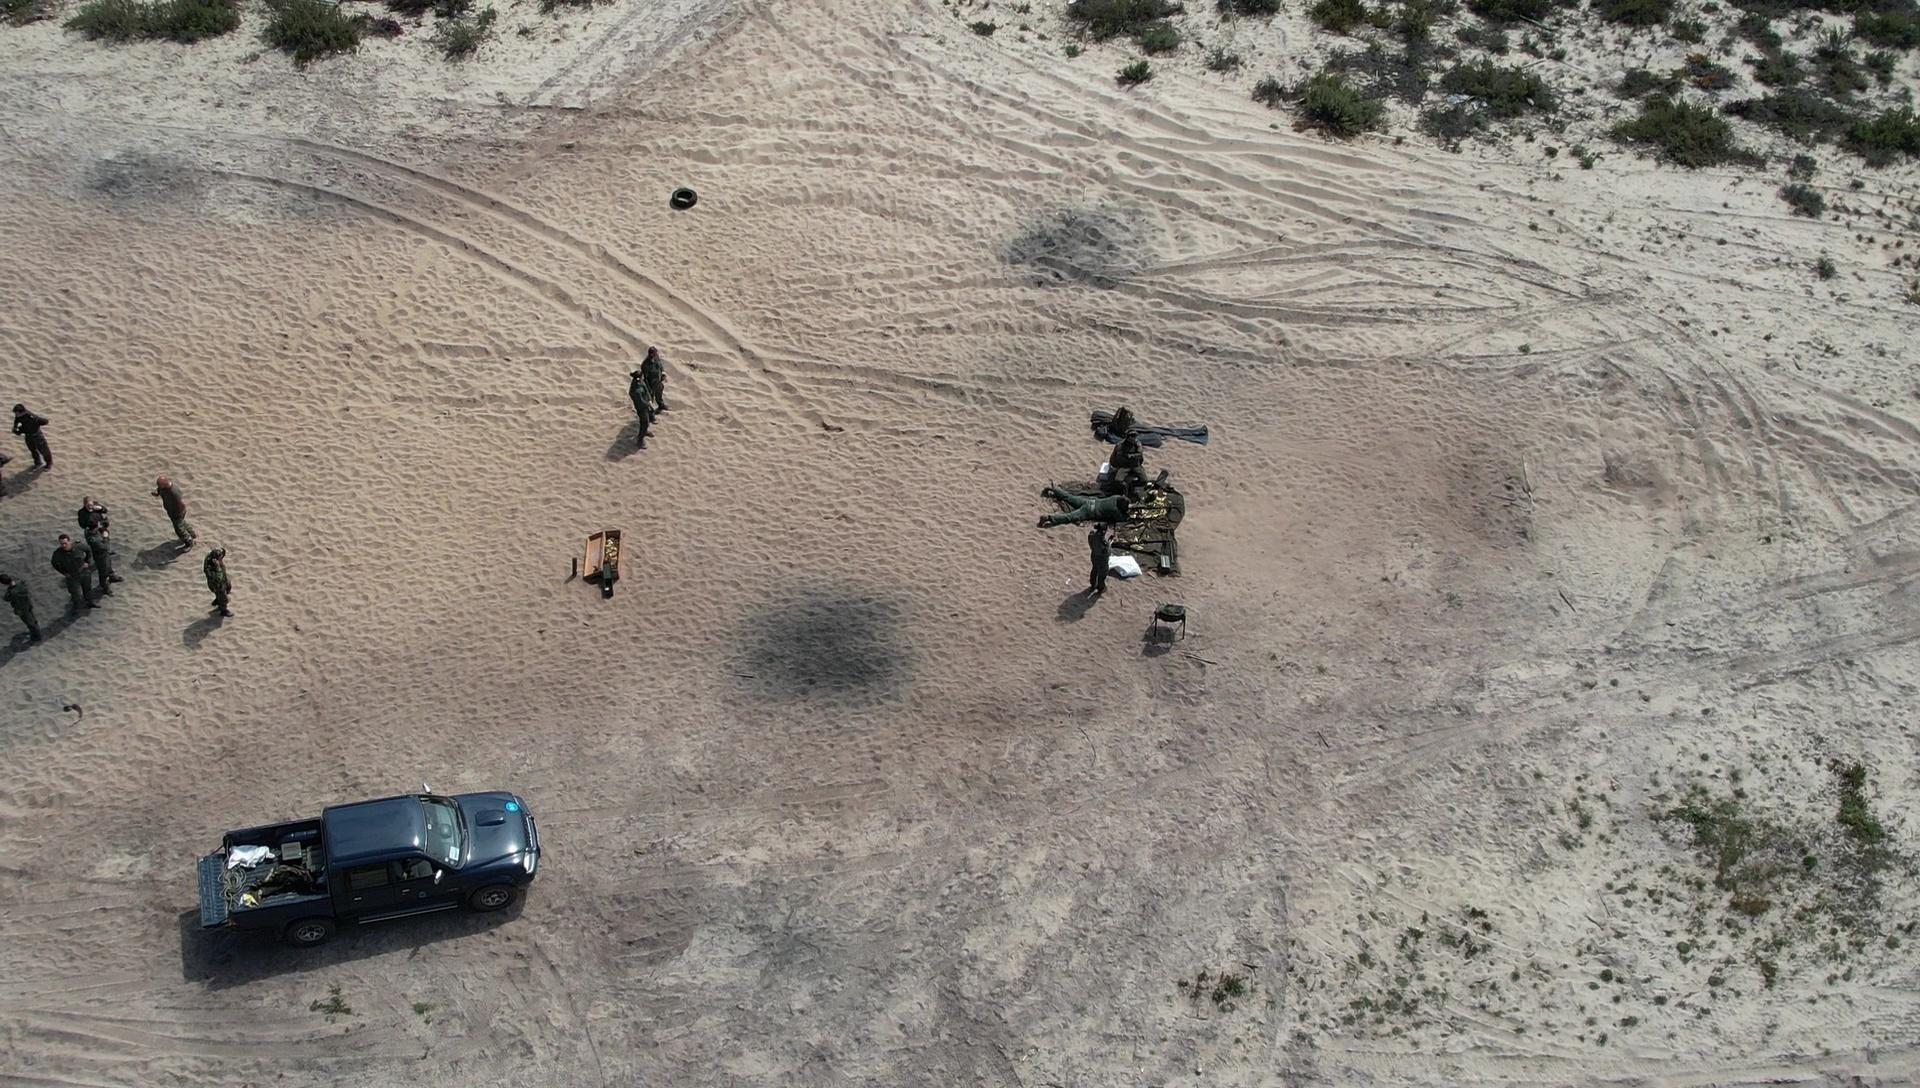Soldier: (1044, 475, 1167, 531), (0, 558, 61, 659), (51, 525, 113, 624), (3, 400, 70, 483), (142, 477, 202, 560), (193, 543, 243, 630), (71, 495, 121, 579), (1083, 517, 1124, 609), (1098, 415, 1158, 473), (628, 355, 667, 437), (632, 349, 669, 411)
